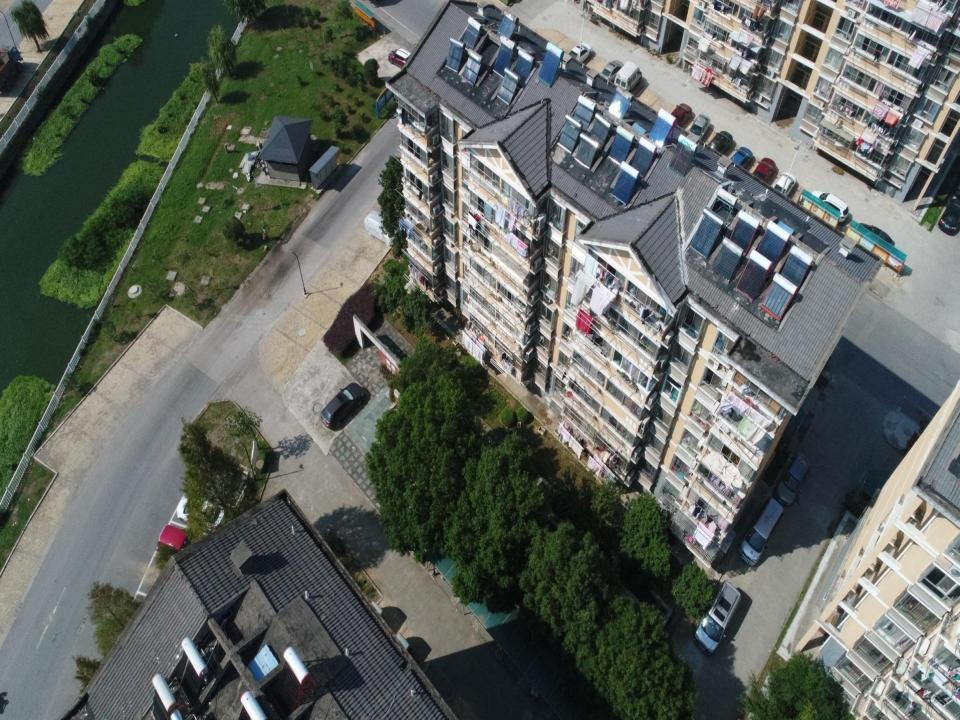car: (693, 581, 741, 655), (774, 450, 812, 507), (320, 382, 364, 430), (176, 494, 225, 533), (157, 524, 198, 558), (808, 190, 849, 224), (855, 221, 895, 255), (938, 190, 959, 236), (704, 129, 734, 159), (725, 146, 752, 178), (749, 156, 776, 187), (684, 114, 710, 146), (770, 170, 796, 201), (565, 41, 593, 69), (388, 48, 418, 72), (667, 102, 692, 130), (599, 60, 624, 87)
van: (738, 496, 784, 568), (613, 61, 642, 93)
